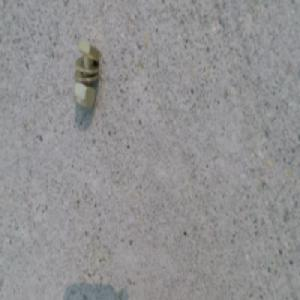BoltNutSet: (72, 41, 100, 109)
